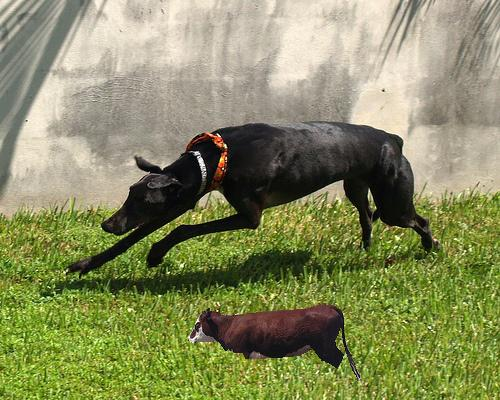tampered: (188, 305, 361, 381)
